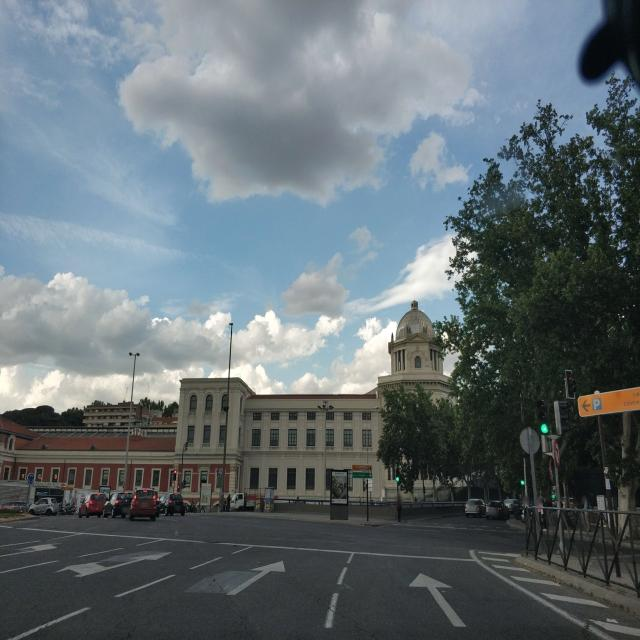bike: (184, 497, 199, 513)
car: (130, 486, 158, 520), (103, 489, 133, 518), (78, 491, 109, 518), (29, 494, 60, 516), (159, 491, 186, 516), (485, 499, 511, 521), (228, 491, 256, 511), (464, 497, 487, 518), (503, 497, 523, 516)
